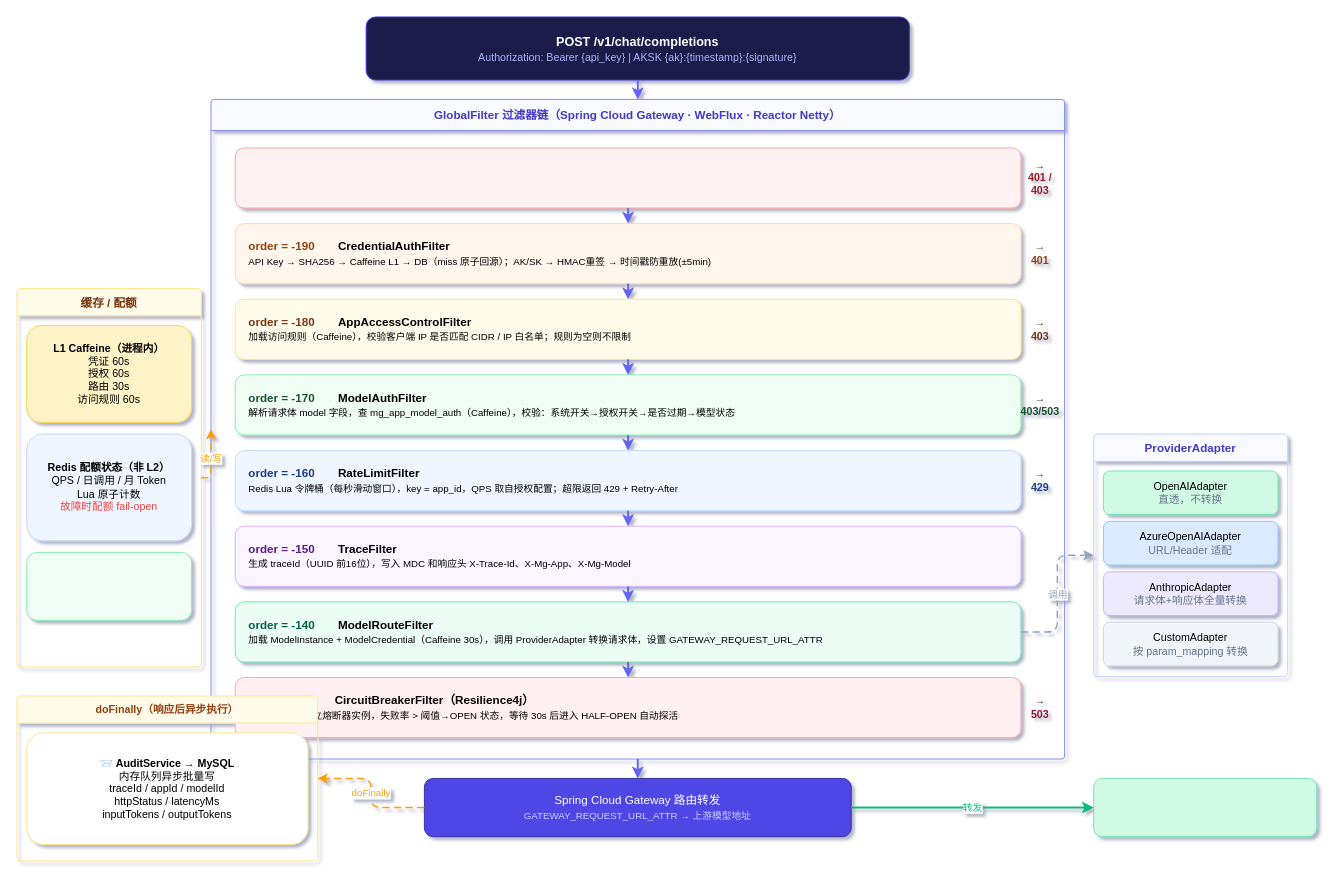
The diagram is 1340 pixels wide and 884 high, and some of its shapes have lost their labels. The shapes that lost their labels are listed below. From the top down, each one's centre as x and y in pixels, then its label:
At point 627,177: "（已移除） 管理面 /modelgate/** 不入本链路 原 AdminAuthFilter(-200) 已删除，改由内网逐接口鉴权体系承担".
At point 109,585: "主动失效策略 当前实例提交后立即逐出 其它实例按 30/60s TTL 收敛".
At point 1205,807: "上游模型服务（SSE / HTTP）".
